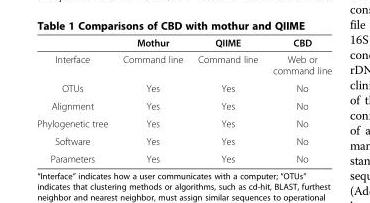table: (36, 36, 331, 164)
table column: (36, 36, 114, 164), (114, 36, 189, 164), (189, 36, 264, 164), (264, 36, 331, 164)
table column header: (36, 36, 331, 50)
table row: (36, 50, 331, 79), (36, 96, 331, 114), (36, 114, 331, 132), (36, 79, 331, 96), (36, 132, 331, 149), (36, 149, 331, 164), (36, 36, 331, 50)
